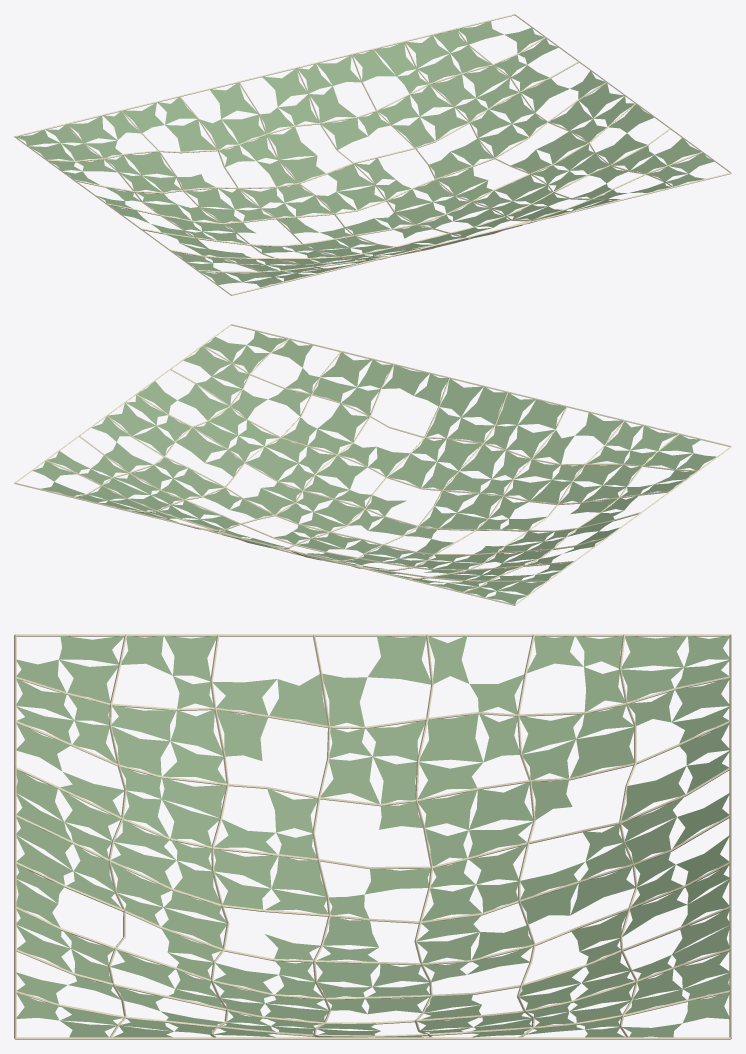
The model's file is Camo_Cloth_Drape.fbx.
The picture shows the model from 3 angles, top to bottom: view 1: azimuth 30°, elevation 25°; view 2: azimuth 150°, elevation 25°; view 3: azimuth 270°, elevation 25°; orthographic projection. The views are drawn at different scales.
Visible parts, largest first — view 1: Camo_Cloth_Drape; view 2: Camo_Cloth_Drape; view 3: Camo_Cloth_Drape.
Boxes of the visible parts, bbox=[...] form: Camo_Cloth_Drape: bbox=[14, 14, 731, 295]; Camo_Cloth_Drape: bbox=[14, 324, 731, 605]; Camo_Cloth_Drape: bbox=[14, 634, 731, 1039].
Size of the model in its own units: 401 by 50.63 by 301.
